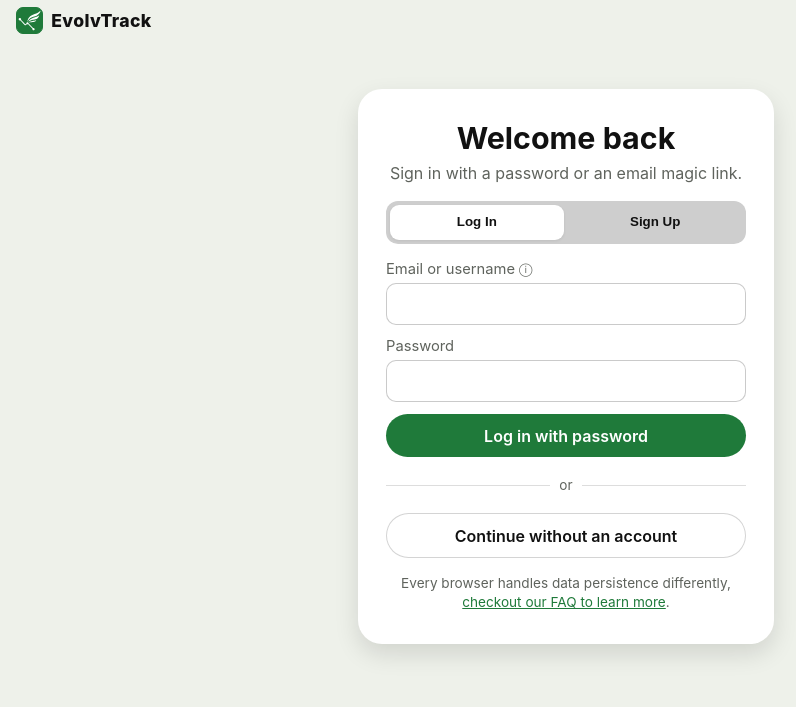
Test: AuthTabs — forgot-password panel › sends the reset and closes the panel on success
Type "alice@example.com" into the field labelled "Email or username ⓘ" at (566, 304), box [386,283,746,325]
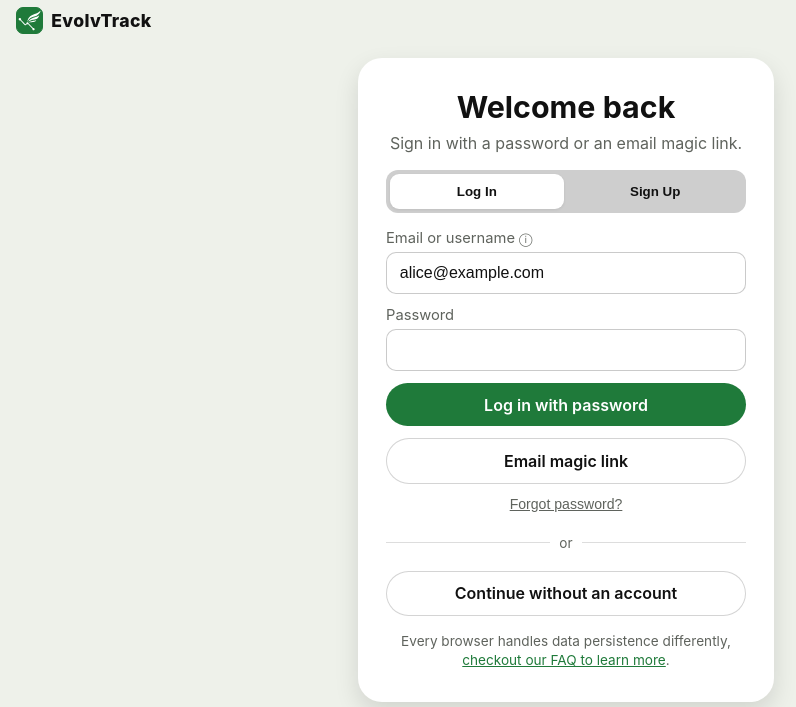
Click the button "Forgot password?" at (566, 504), box [503,492,629,515]
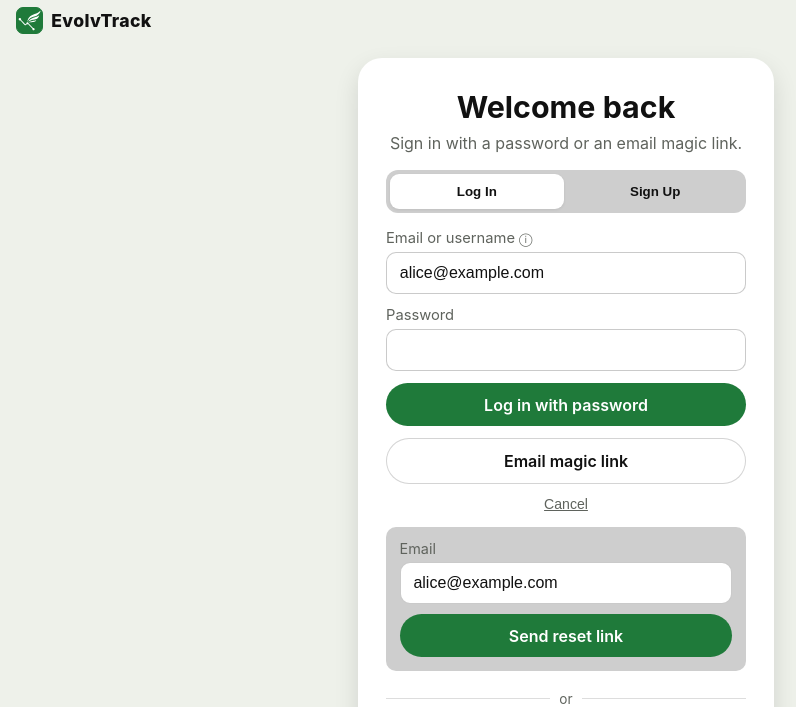
Click the button "Send reset link" at (566, 636), box [400,614,732,657]
(page scrolled)
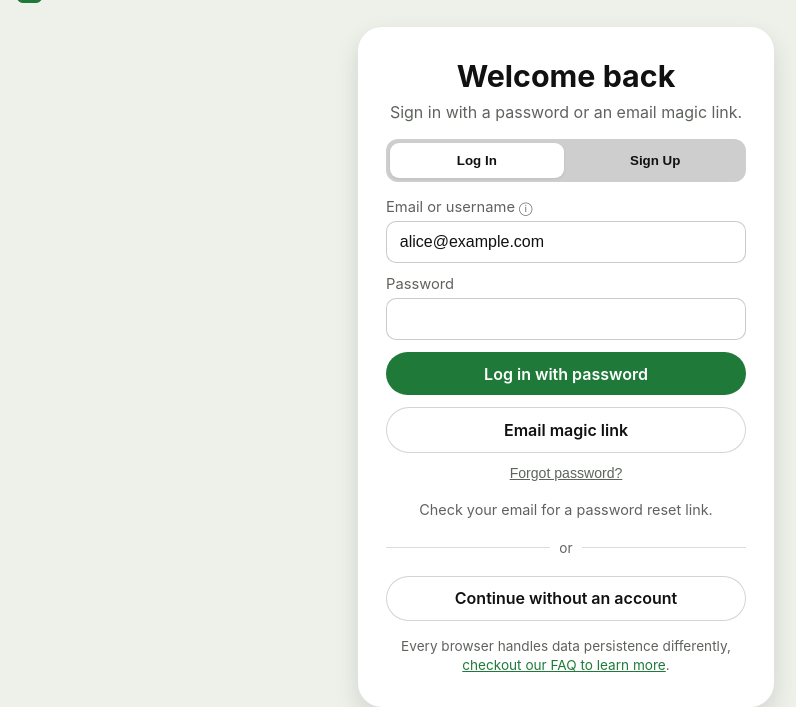
Now the element with id "forgot-panel" is gone
Now the element with id "host" shows "Check your email", box [419,501,713,518]
